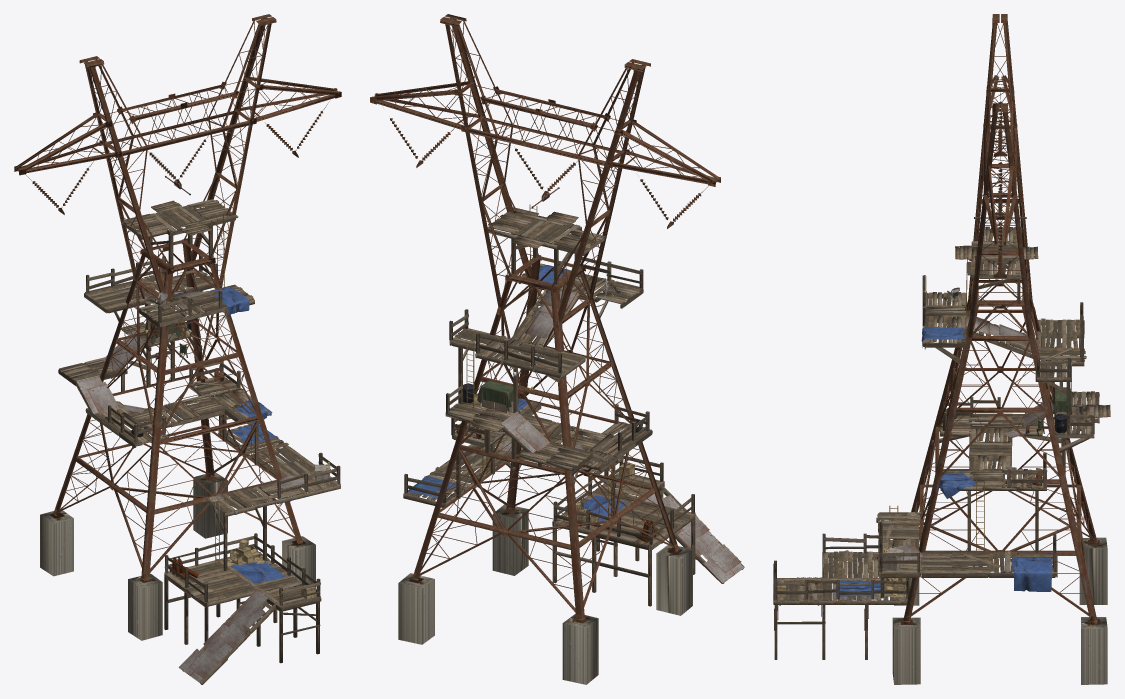
Rendered from powerlineplatform_b.glb.
The picture shows the model from 3 angles, left to right: view 1: azimuth 30°, elevation 25°; view 2: azimuth 150°, elevation 25°; view 3: azimuth 270°, elevation 25°; orthographic projection. The views are drawn at different scales.
Visible parts, largest first — view 1: powerline_a_LOD0, Lvl0PlatformA, Lvl1PlatformA_LOD0, Lvl6PlatformA_LOD0, Lvl0PlatformStairs_LOD0, Lvl4PlatformA_LOD0, Lvl5PlatformA_LOD0, Lvl1PlatformB_LOD0, Tarp, Lvl2PlatformA_LOD0, Lvl2PlatformC_LOD0, Lvl2PlatformB_LOD0 (+5 smaller); view 2: powerline_a_LOD0, Lvl0PlatformA, Lvl6PlatformA_LOD0, Lvl4PlatformA_LOD0, Lvl1PlatformB_LOD0, Lvl0PlatformStairs_LOD0, Lvl3PlatformB_LOD0, Lvl2PlatformC_LOD0, Lvl5PlatformA_LOD0, Lvl4PlatformRamp_LOD0, Lvl3PlatformA_LOD0, Tarp (+5 smaller); view 3: powerline_a_LOD0, Lvl0PlatformA, Lvl1PlatformB_LOD0, Tarp, Lvl4PlatformA_LOD0, Lvl1PlatformA_LOD0, Lvl6PlatformA_LOD0, Lvl5PlatformA_LOD0, Lvl2PlatformC_LOD0, Lvl2PlatformA_LOD0, Lvl2PlatformB_LOD0, Lvl3PlatformB_LOD0 (+1 smaller).
Boxes of the visible parts, x1,y1,x2,y2 form: powerline_a_LOD0: (14, 14, 341, 640); Lvl0PlatformA: (164, 533, 321, 663); Lvl1PlatformA_LOD0: (205, 452, 340, 570); Lvl6PlatformA_LOD0: (121, 199, 238, 268); Lvl0PlatformStairs_LOD0: (178, 589, 276, 684); Lvl4PlatformA_LOD0: (84, 255, 217, 321); Lvl5PlatformA_LOD0: (138, 270, 254, 329); Lvl1PlatformB_LOD0: (194, 386, 314, 478); Tarp: (208, 286, 285, 583); Lvl2PlatformA_LOD0: (189, 361, 271, 421); Lvl2PlatformC_LOD0: (85, 401, 168, 447); Lvl2PlatformB_LOD0: (125, 395, 224, 432); powerline_a_LOD0: (370, 14, 720, 684); Lvl0PlatformA: (552, 455, 695, 606); Lvl6PlatformA_LOD0: (487, 207, 605, 284); Lvl4PlatformA_LOD0: (449, 309, 585, 382); Lvl1PlatformB_LOD0: (403, 431, 511, 507); Lvl0PlatformStairs_LOD0: (644, 484, 744, 583); Lvl3PlatformB_LOD0: (445, 340, 523, 459); Lvl2PlatformC_LOD0: (571, 404, 652, 483); Lvl5PlatformA_LOD0: (518, 254, 643, 317); Lvl4PlatformRamp_LOD0: (512, 288, 579, 346); Lvl3PlatformA_LOD0: (518, 442, 592, 475); Tarp: (408, 264, 627, 521); powerline_a_LOD0: (892, 14, 1107, 684); Lvl0PlatformA: (773, 533, 910, 659); Lvl1PlatformB_LOD0: (920, 491, 1057, 577); Tarp: (835, 327, 1052, 596); Lvl4PlatformA_LOD0: (1035, 302, 1086, 381); Lvl1PlatformA_LOD0: (876, 512, 924, 598); Lvl6PlatformA_LOD0: (955, 226, 1038, 304); Lvl5PlatformA_LOD0: (922, 275, 966, 363); Lvl2PlatformC_LOD0: (931, 397, 1069, 444); Lvl2PlatformA_LOD0: (939, 452, 1047, 490); Lvl2PlatformB_LOD0: (969, 427, 1012, 470); Lvl3PlatformB_LOD0: (1041, 347, 1110, 466).
Bounding box in the file's own units: 24.83 × 40.41 × 21.18.
22 materials, 21 textured.
